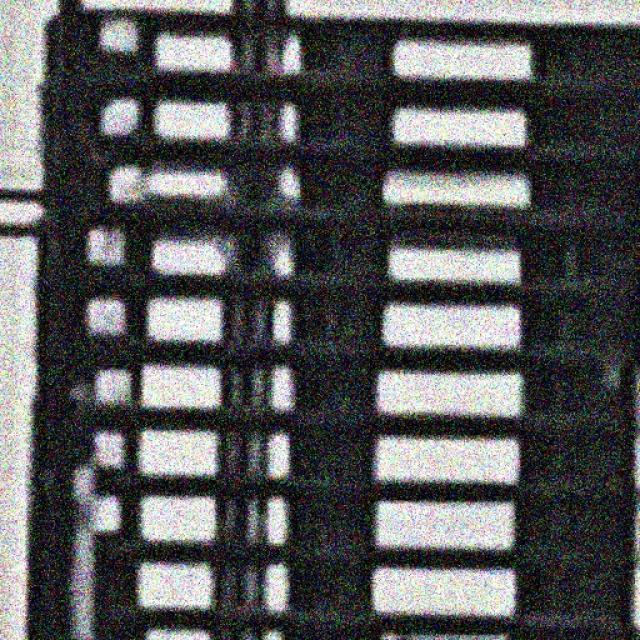igps: (17, 462, 640, 562), (30, 0, 639, 101), (21, 544, 640, 640), (31, 74, 640, 160), (28, 204, 640, 286), (25, 340, 640, 421), (36, 144, 640, 225), (22, 414, 640, 492), (30, 274, 640, 353)
